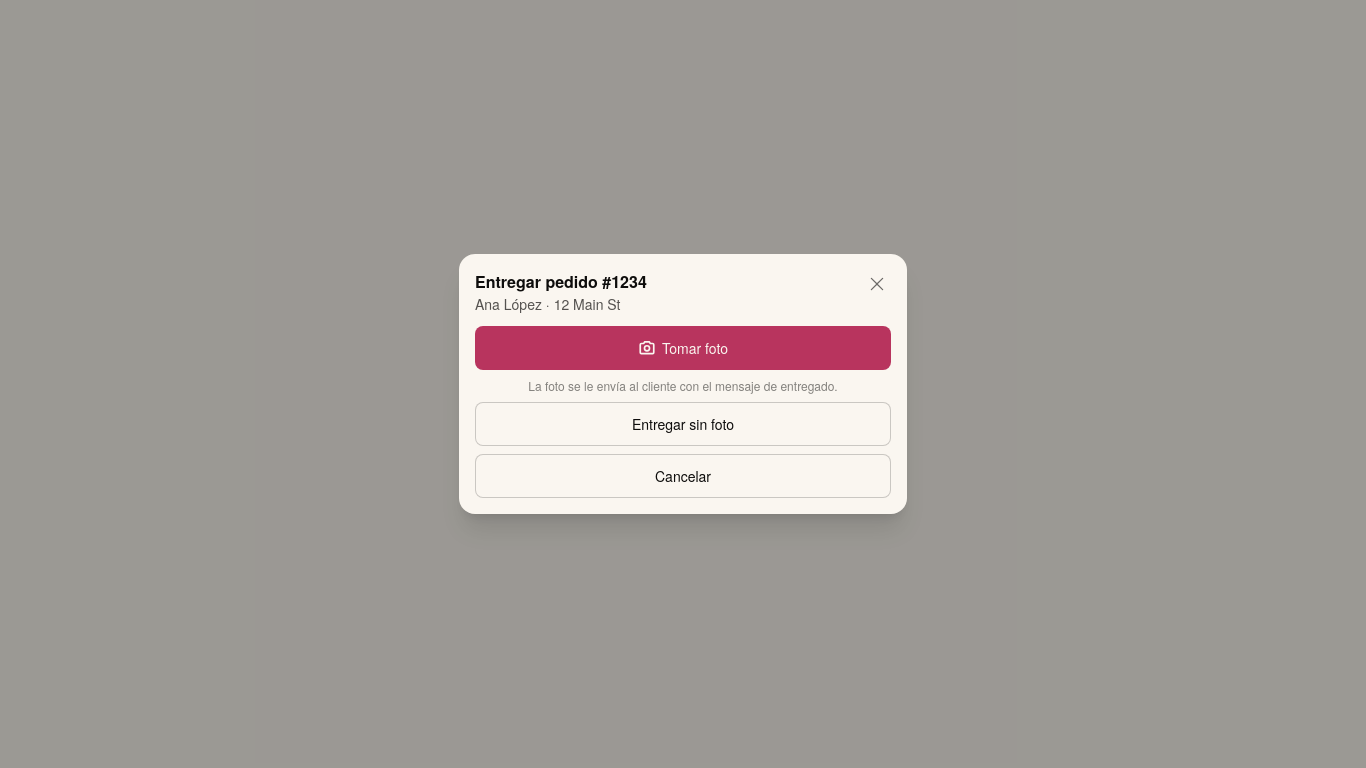
DeliverSheet › a PATCH that times out is a delivery failure
The width and height of the screenshot is (1366, 768).
Step 1. Click the button "Entregar sin foto" → x=683, y=424, box top-left (475, 402), bottom-right (891, 446)
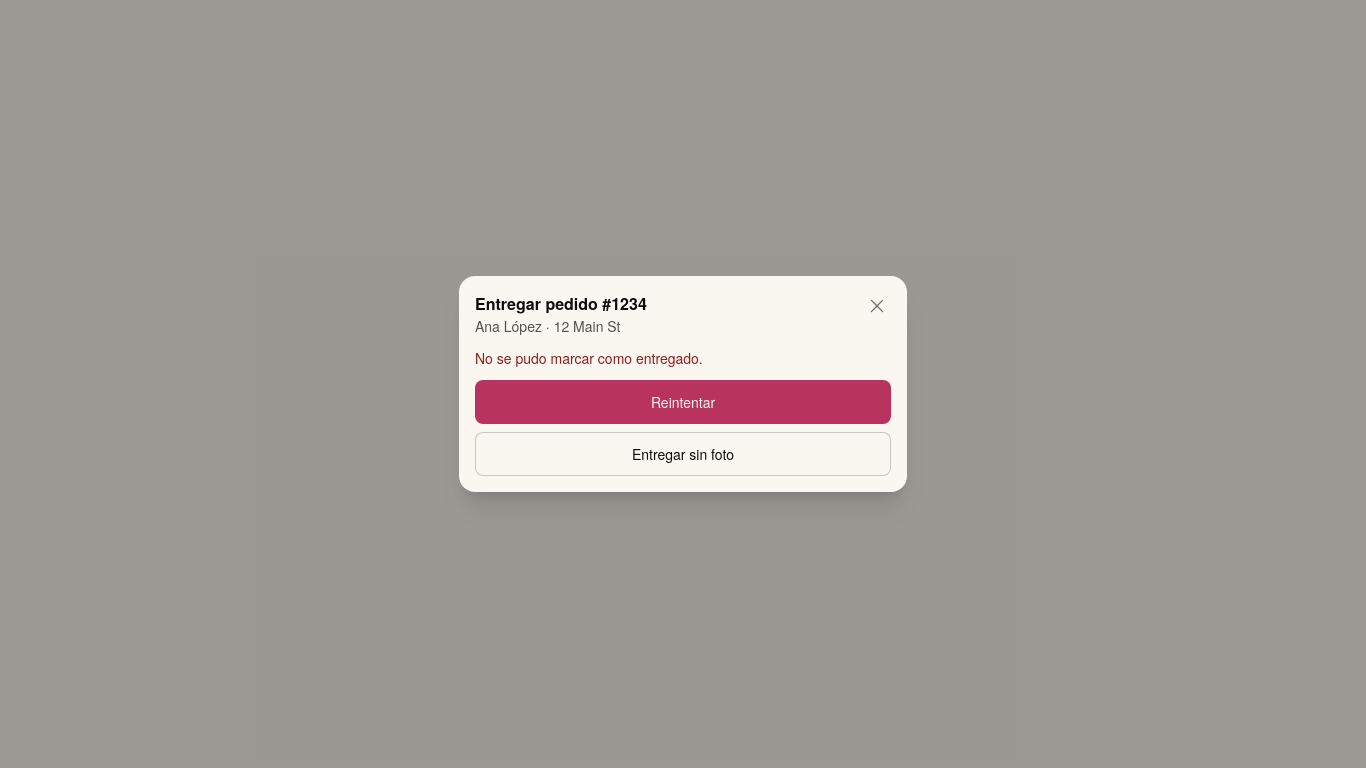
Expected: the text "No se pudo marcar como entregado." is shown, top-left (475, 348), bottom-right (703, 368)
